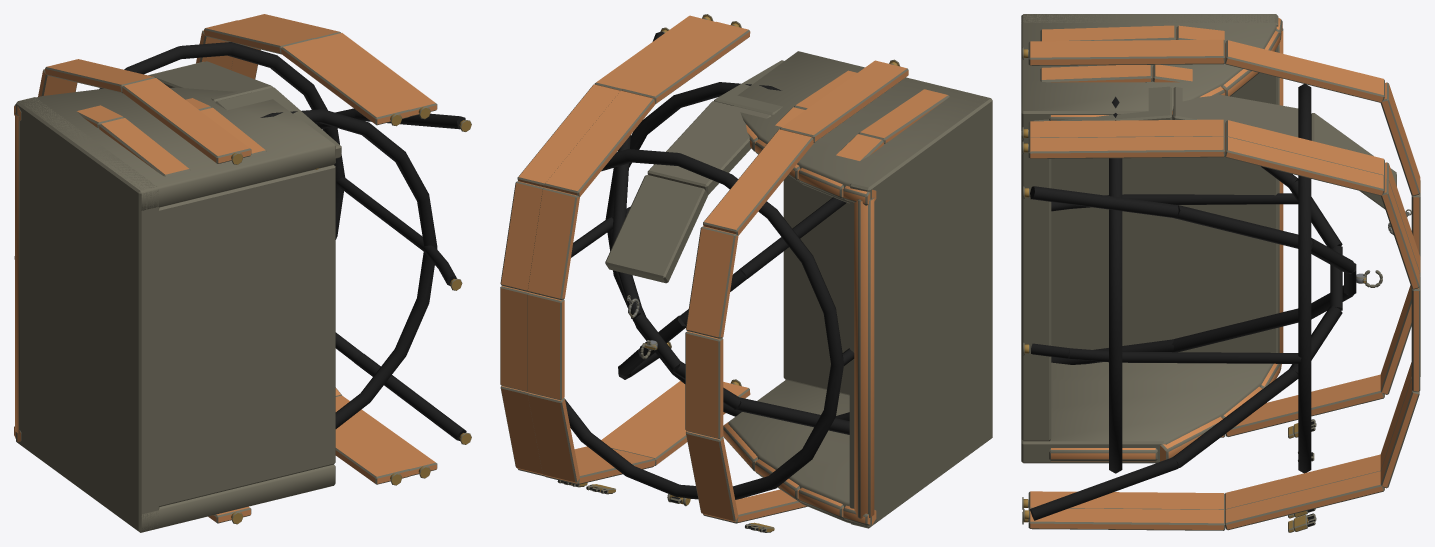
Rendered from pack_holders.fbx.
The picture shows the model from 3 angles, left to right: view 1: azimuth 30°, elevation 25°; view 2: azimuth 150°, elevation 25°; view 3: azimuth 270°, elevation 25°; orthographic projection. The views are drawn at different scales.
Parts seen in each view (by area): view 1: Mesh_Sleeve_Body, Mesh_Web_Strap_B, Mesh_Web_Strap_A, Mesh_Sleeve_Strap, Mesh_Cord_Ring_Lo, Mesh_Sleeve_Mouth, Mesh_Cord_Ring_Hi, Mesh_Clip_Tail, Mesh_Bungee_Cords, Mesh_Cord_Tails; view 2: Mesh_Sleeve_Body, Mesh_Web_Strap_B, Mesh_Web_Strap_A, Mesh_Sleeve_Strap, Mesh_Sleeve_Mouth, Mesh_Clip_Tail, Mesh_Cord_Ring_Hi, Mesh_Bungee_Cords, Mesh_Cord_Ring_Lo, Mesh_Cord_Tails; view 3: Mesh_Sleeve_Body, Mesh_Sleeve_Strap, Mesh_Web_Strap_A, Mesh_Bungee_Cords, Mesh_Web_Strap_B, Mesh_Sleeve_Mouth, Mesh_Clip_Tail, Mesh_Cord_Tails, Mesh_Cord_Ring_Hi, Mesh_Cord_Ring_Lo.
Boxes of the visible parts, box(x1,y1,x2,y2) form: Mesh_Sleeve_Body: box(16, 87, 335, 532); Mesh_Web_Strap_B: box(196, 20, 409, 484); Mesh_Web_Strap_A: box(38, 59, 251, 523); Mesh_Sleeve_Strap: box(231, 14, 437, 476); Mesh_Cord_Ring_Lo: box(260, 109, 437, 428); Mesh_Sleeve_Mouth: box(14, 98, 266, 441); Mesh_Cord_Ring_Hi: box(14, 42, 345, 259); Mesh_Clip_Tail: box(148, 61, 341, 158); Mesh_Bungee_Cords: box(315, 108, 466, 440); Mesh_Cord_Tails: box(336, 177, 456, 285); Mesh_Sleeve_Body: box(728, 51, 992, 528); Mesh_Web_Strap_B: box(527, 21, 750, 484); Mesh_Web_Strap_A: box(685, 60, 908, 523); Mesh_Sleeve_Strap: box(500, 15, 715, 476); Mesh_Sleeve_Mouth: box(723, 70, 949, 525); Mesh_Clip_Tail: box(605, 60, 783, 283); Mesh_Cord_Ring_Hi: box(565, 149, 843, 499); Mesh_Bungee_Cords: box(611, 31, 849, 434); Mesh_Cord_Ring_Lo: box(605, 82, 849, 420); Mesh_Cord_Tails: box(571, 206, 854, 365); Mesh_Sleeve_Body: box(1021, 14, 1278, 463); Mesh_Sleeve_Strap: box(1028, 136, 1420, 530); Mesh_Web_Strap_A: box(1028, 39, 1420, 437); Mesh_Bungee_Cords: box(1030, 166, 1356, 520); Mesh_Web_Strap_B: box(1028, 119, 1420, 510); Mesh_Sleeve_Mouth: box(1040, 17, 1283, 461); Mesh_Clip_Tail: box(1033, 86, 1396, 209); Mesh_Cord_Tails: box(1031, 193, 1301, 363); Mesh_Cord_Ring_Hi: box(1298, 83, 1311, 473); Mesh_Cord_Ring_Lo: box(1109, 96, 1122, 473).
Size of the model in its own units: 108 by 106 by 113.
